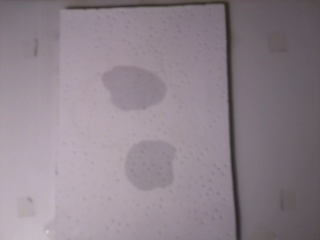Water_detected: (112, 74, 160, 112), (127, 152, 167, 191)
